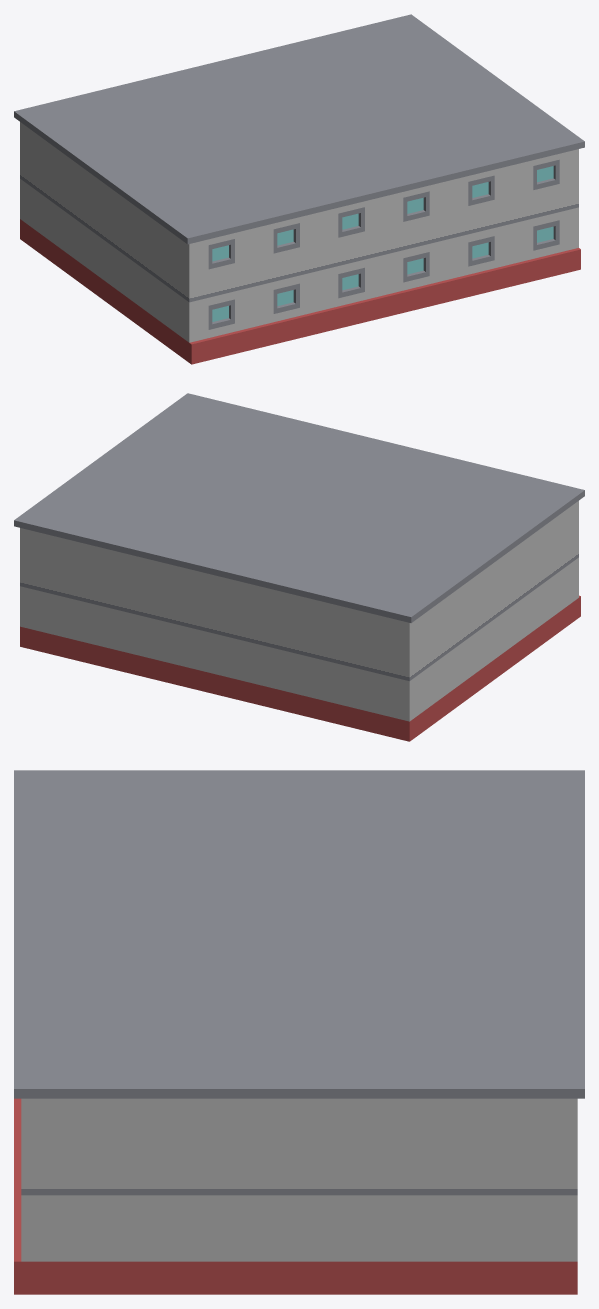
The model's file is StoreRoof.fbx.
3 views of the same model, one above another, from view 1: azimuth 30°, elevation 25°; view 2: azimuth 150°, elevation 25°; view 3: azimuth 270°, elevation 25° (orthographic). The views are drawn at different scales.
Parts seen in each view (by area): view 1: StoreRoof; view 2: StoreRoof; view 3: StoreRoof.
Part boxes in pixels (bbox=[...]): StoreRoof: bbox=[14, 14, 584, 364]; StoreRoof: bbox=[14, 393, 584, 741]; StoreRoof: bbox=[14, 770, 584, 1294].
Bounding box in the file's own units: 20.6 × 6.3 × 15.6.
